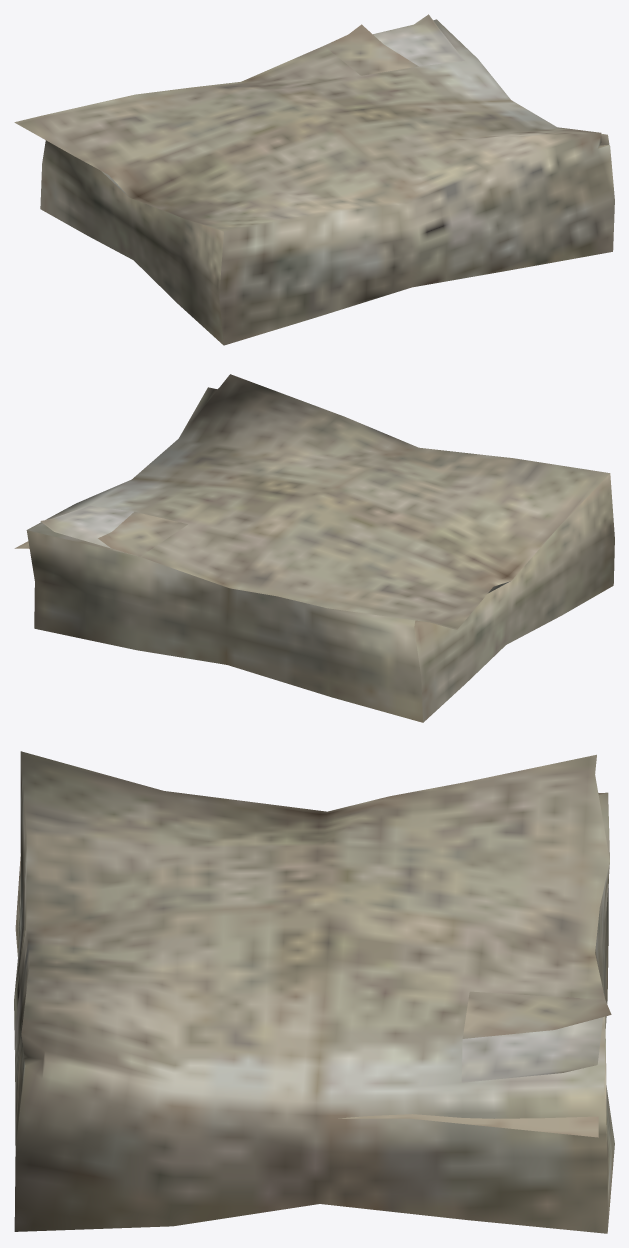
The model's file is 009_PaperBundle.fbx.
3 views of the same model, one above another, from view 1: azimuth 30°, elevation 25°; view 2: azimuth 150°, elevation 25°; view 3: azimuth 270°, elevation 25° (orthographic). The views are drawn at different scales.
Visible parts, largest first — view 1: LOD_1_Group_0_Sub_1__sm36_009_PaperBundle01A_A_Mat; view 2: LOD_1_Group_0_Sub_1__sm36_009_PaperBundle01A_A_Mat; view 3: LOD_1_Group_0_Sub_1__sm36_009_PaperBundle01A_A_Mat.
Boxes of the visible parts, <box> form: LOD_1_Group_0_Sub_1__sm36_009_PaperBundle01A_A_Mat: <box>14,14,614,345</box>; LOD_1_Group_0_Sub_1__sm36_009_PaperBundle01A_A_Mat: <box>14,374,614,722</box>; LOD_1_Group_0_Sub_1__sm36_009_PaperBundle01A_A_Mat: <box>14,751,614,1233</box>.
Size of the model in its own units: 0.3488 by 0.0914 by 0.2595.
